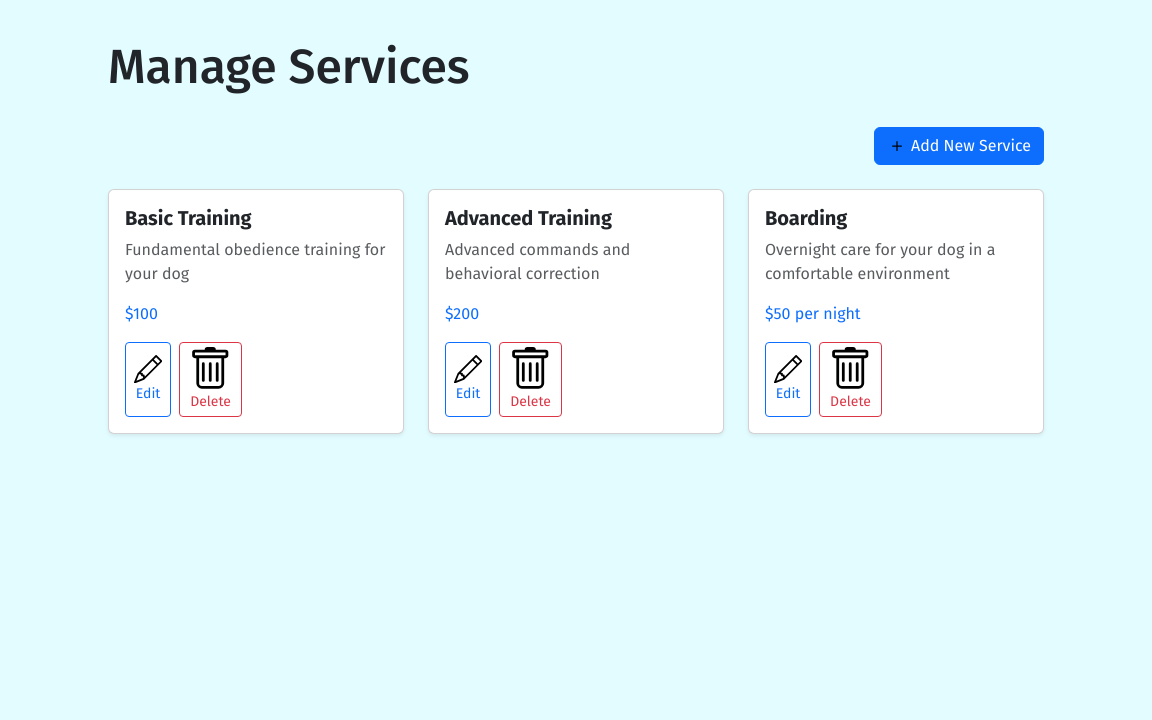
Test case: ManageServices Component › handles edit service form submission errors gracefully
Expected: the text "Basic Training" is shown, [125, 206, 252, 230]
// Find and click the Edit button for the first service
Click the button "Edit" below "$100" at x=148, y=379, box [125, 342, 171, 417]
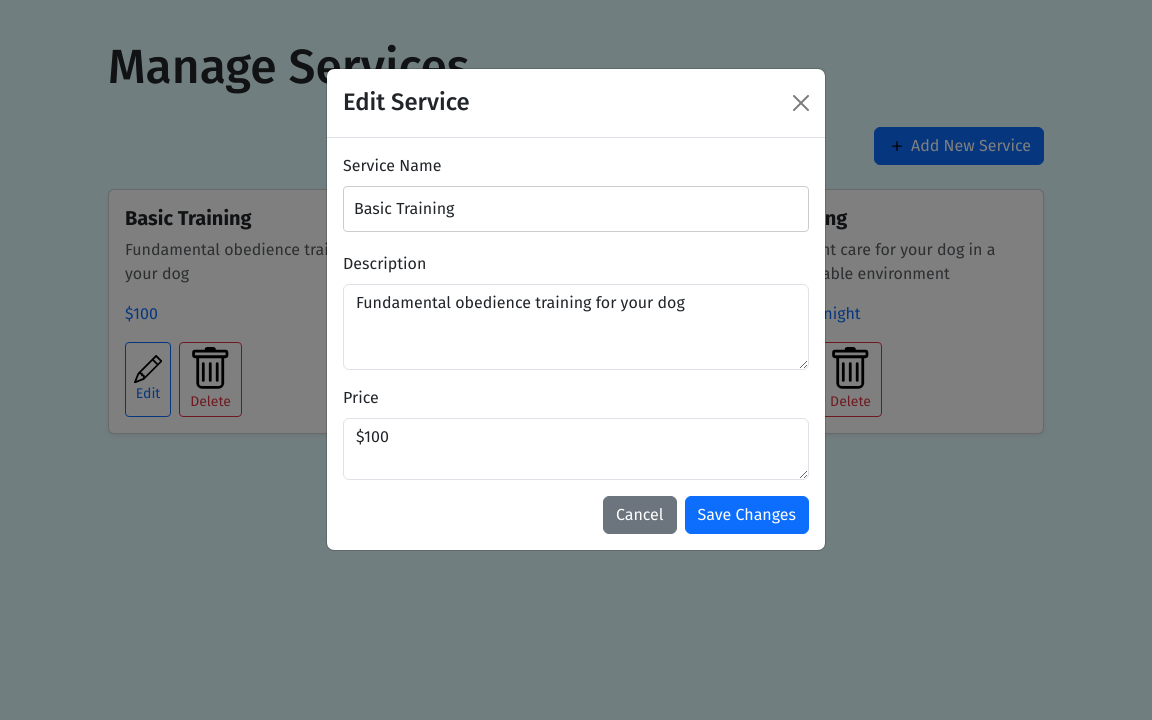
// Submit form without changes
Click the button "Save Changes" at x=747, y=515, box [684, 496, 809, 534]
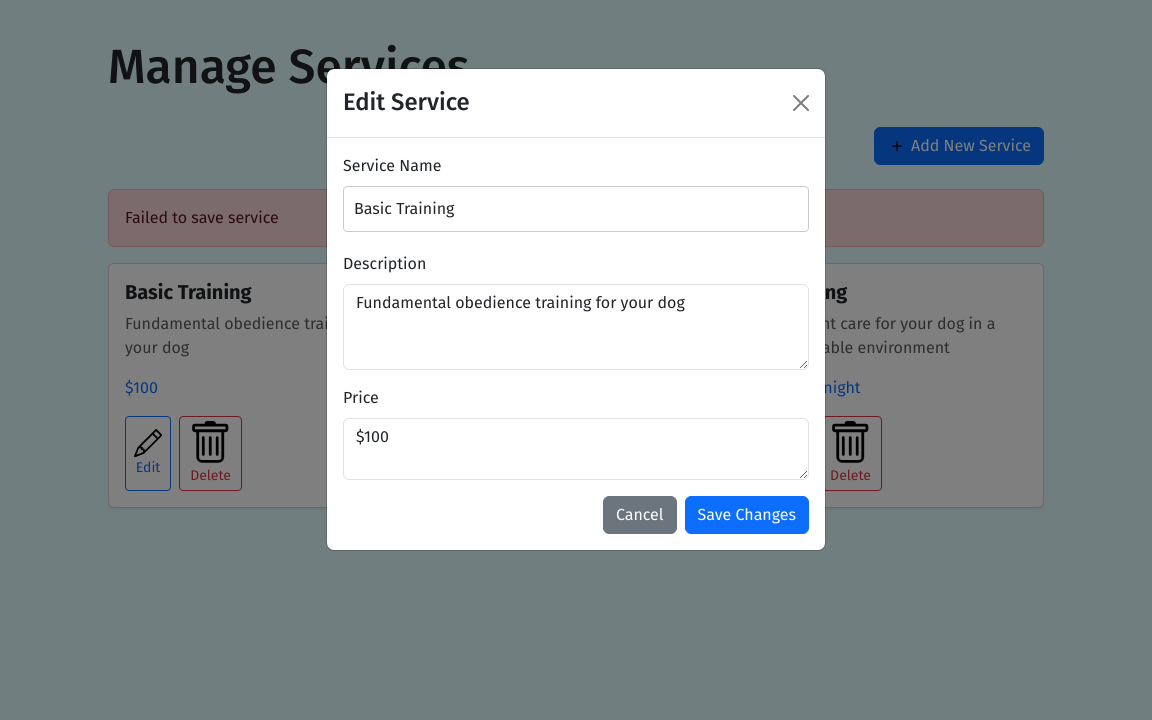
Now the text "Failed to save service" is shown, box [108, 189, 1044, 247]
